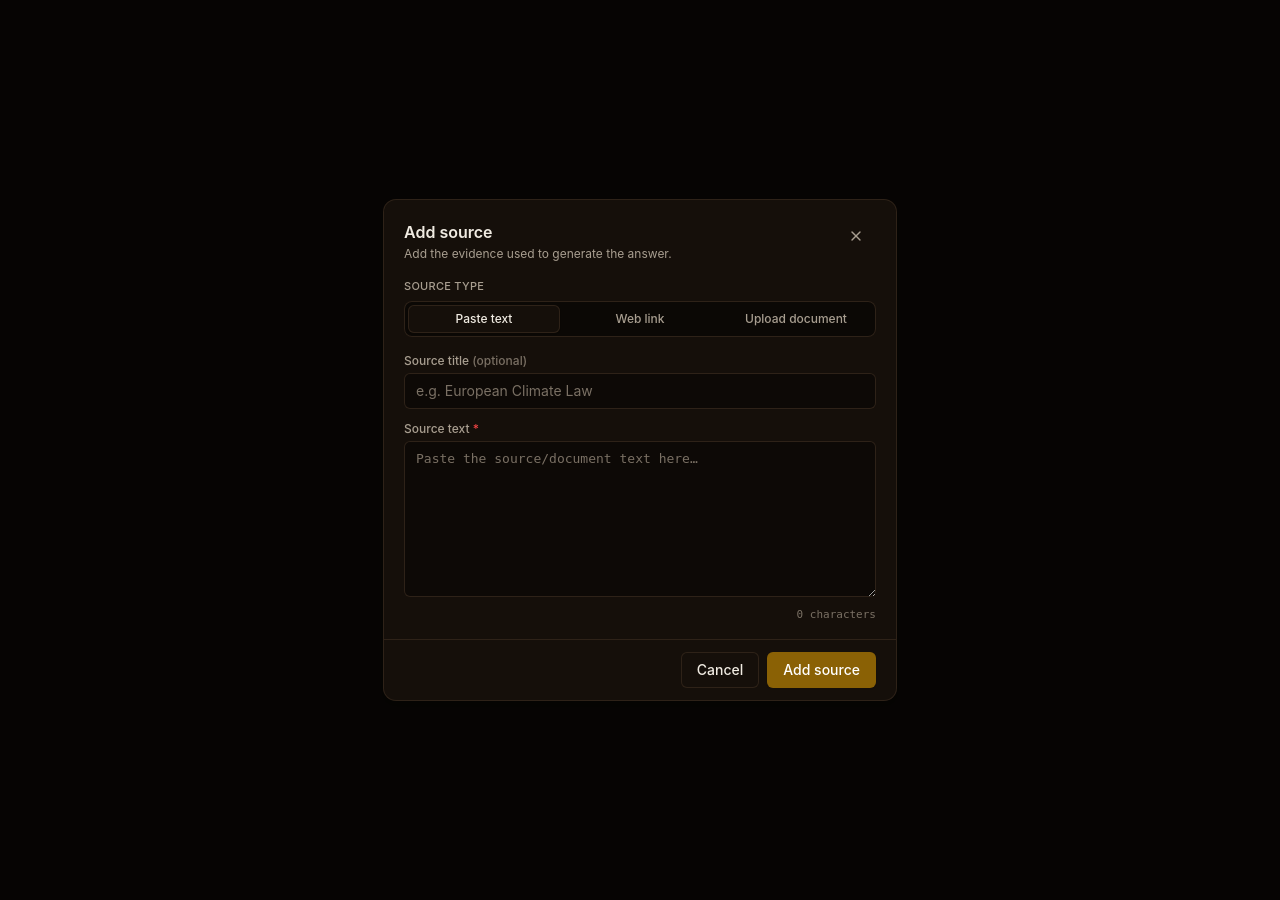
it: AddSourceDialog — paste text › shows a live character count
Type "12345" into the text box labelled "Source text *" at (640, 518), box [404,440,876,596]
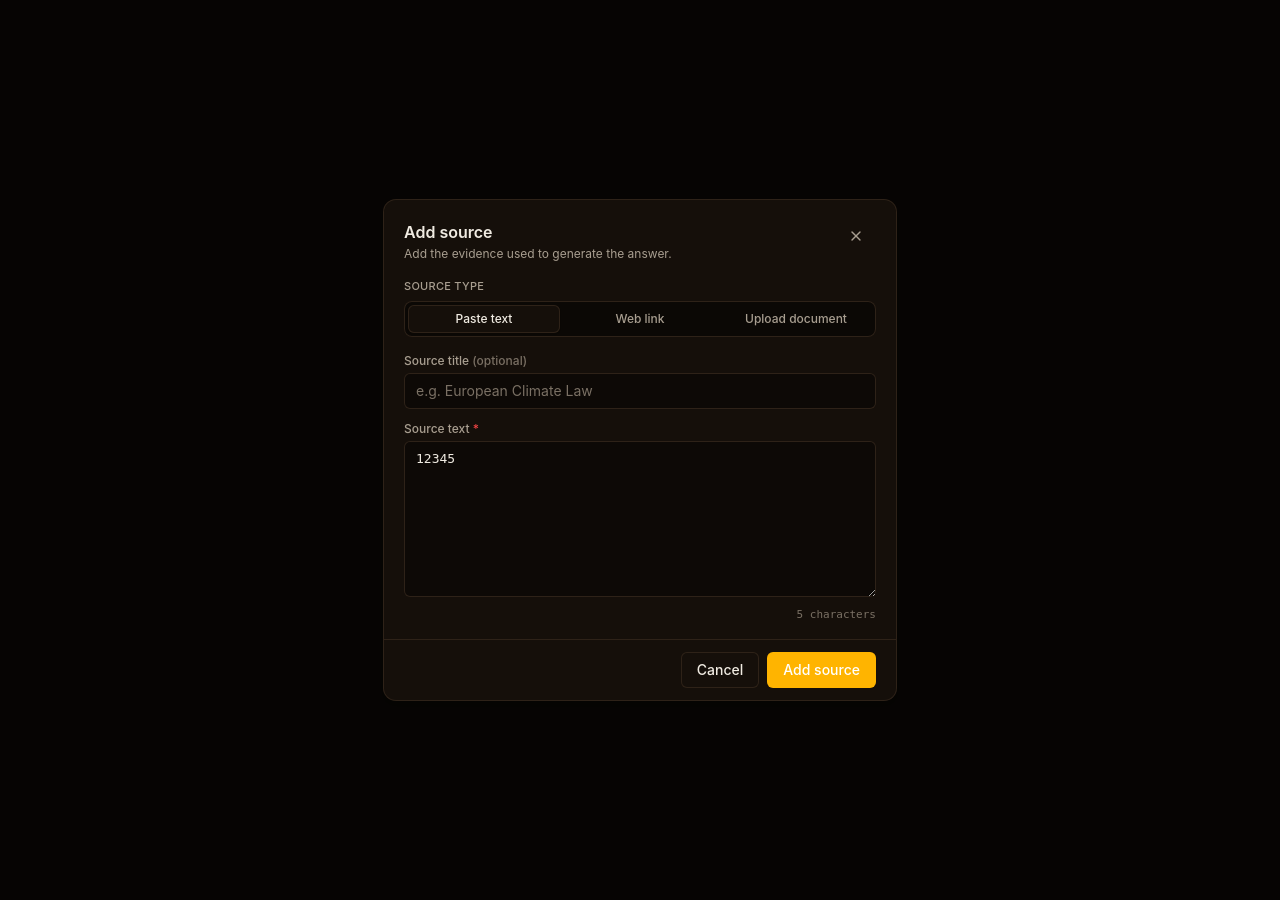
Expected: the text "5 characters" is shown, [796,608,876,620]
